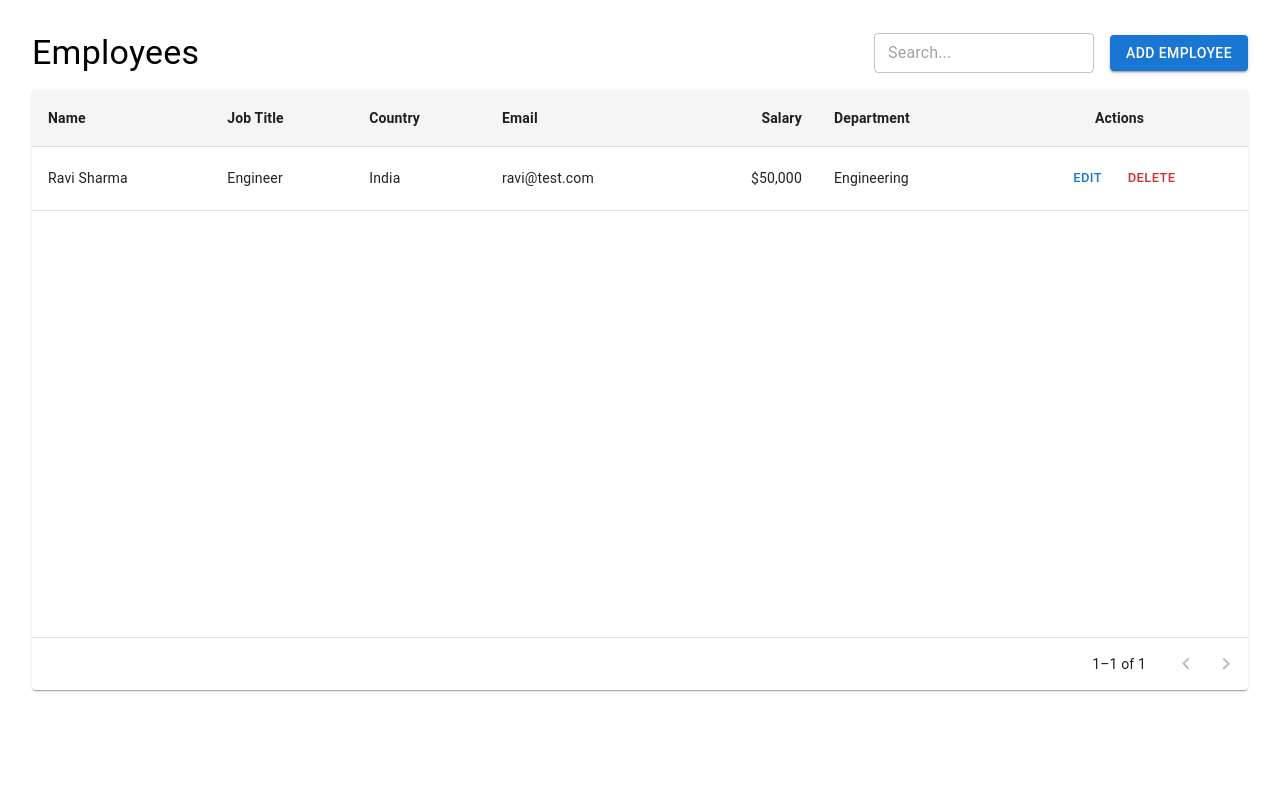
Test: EmployeesPage › shows confirmation dialog before deleting employee
expect the text "Ravi Sharma" is shown: met, box x1=32 y1=147 x2=211 y2=211
Click the button "Delete".
click(1152, 178)  # box x1=1120 y1=163 x2=1184 y2=194
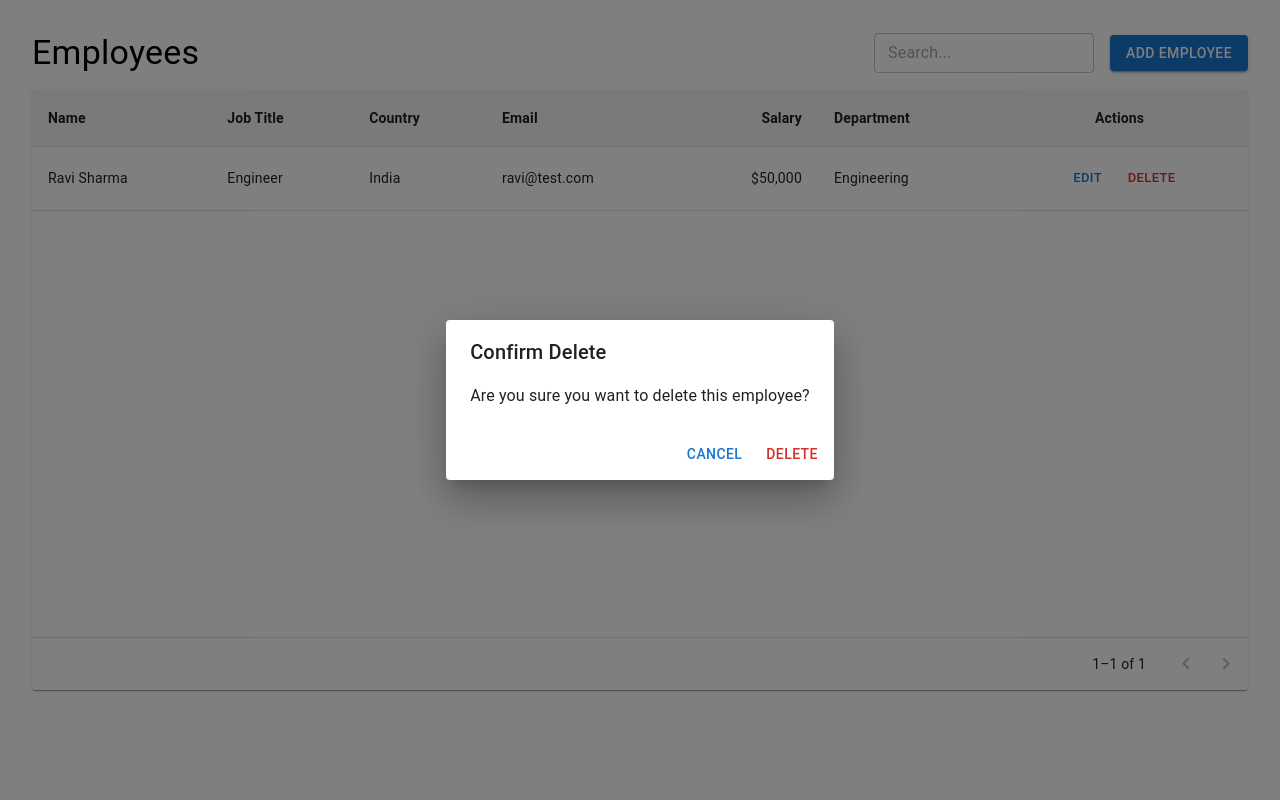
expect the text "Are you sure you want to delete this employee?" is shown: met, box x1=470 y1=384 x2=810 y2=408
